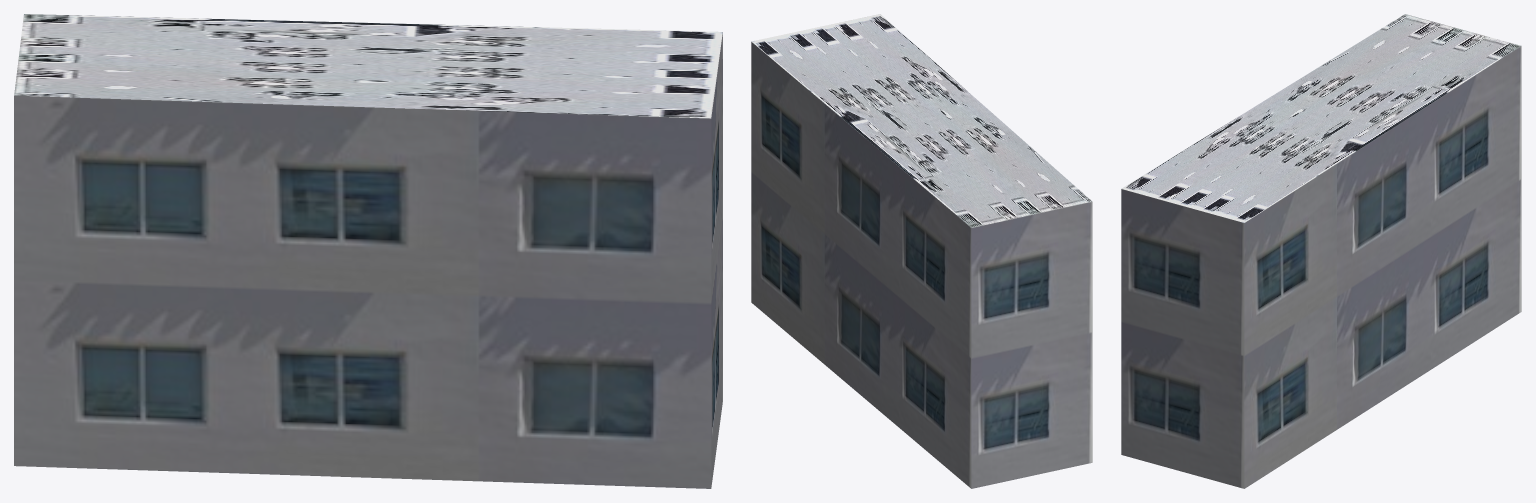
Rendered from ResTex__3042.fbx.
3 renders of one model, left to right at view 1: azimuth 30°, elevation 25°; view 2: azimuth 150°, elevation 25°; view 3: azimuth 270°, elevation 25°, orthographic. The views are drawn at different scales.
Parts seen in each view (by area): view 1: CityEngineMaterial_10_m, CityEngineMaterial_m; view 2: CityEngineMaterial_10_m, CityEngineMaterial_m; view 3: CityEngineMaterial_10_m, CityEngineMaterial_m.
Part boxes in pixels (x1=…): CityEngineMaterial_10_m: x1=14, y1=32, x2=722, y2=488; CityEngineMaterial_m: x1=14, y1=14, x2=722, y2=118; CityEngineMaterial_10_m: x1=751, y1=42, x2=1092, y2=488; CityEngineMaterial_m: x1=751, y1=14, x2=1092, y2=227; CityEngineMaterial_10_m: x1=1121, y1=46, x2=1521, y2=488; CityEngineMaterial_m: x1=1121, y1=14, x2=1521, y2=222.
Bounding box in the file's own units: 10.12 × 6 × 8.19.
2 materials, 2 textured.
